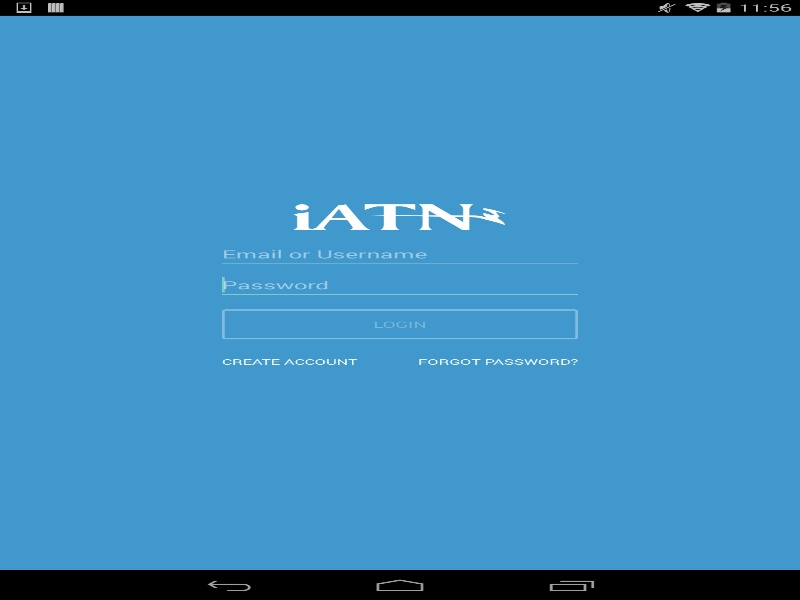Button: (222, 309, 578, 339), (387, 346, 583, 376), (216, 346, 387, 376)
Input: (216, 270, 583, 299), (216, 240, 583, 268)
